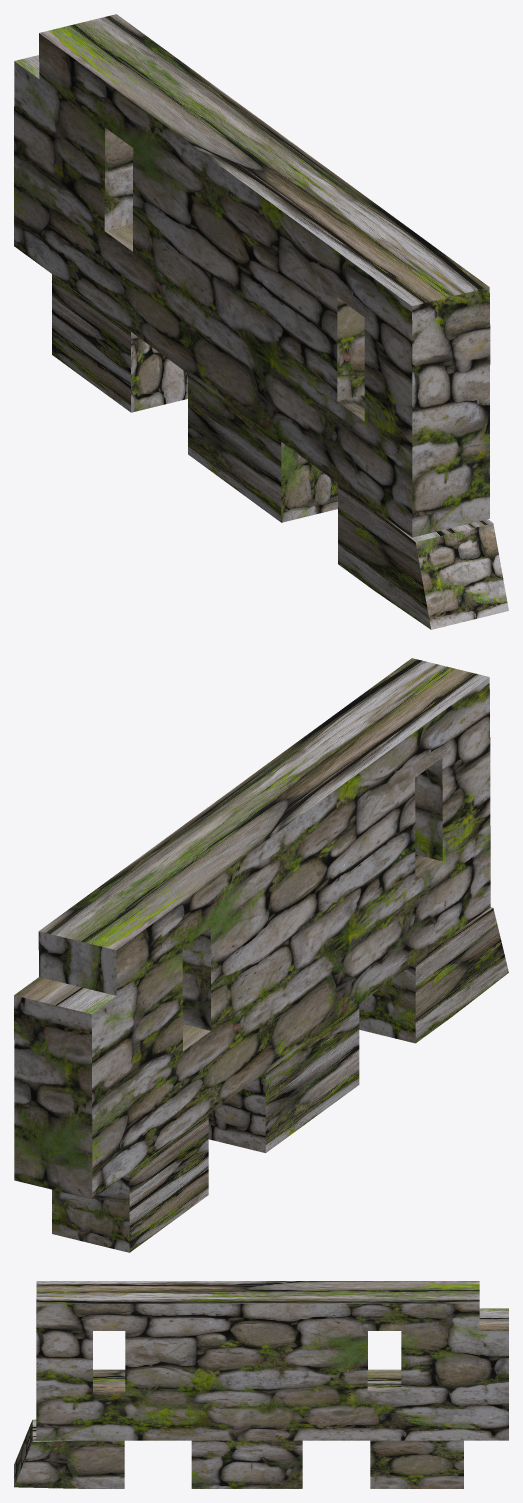
Rendered from wall2.fbx.
3 renders of one model, top to bottom at view 1: azimuth 30°, elevation 25°; view 2: azimuth 150°, elevation 25°; view 3: azimuth 270°, elevation 25°, orthographic. The views are drawn at different scales.
Visible parts, largest first — view 1: Cube.001; view 2: Cube.001; view 3: Cube.001.
Part boxes in pixels (left/top/right/bottom): Cube.001: left=14, top=14, right=508, bottom=629; Cube.001: left=14, top=658, right=508, bottom=1252; Cube.001: left=14, top=1281, right=508, bottom=1488.
Bounding box in the file's own units: 201 × 767 × 1858.
1 material, 1 textured.
